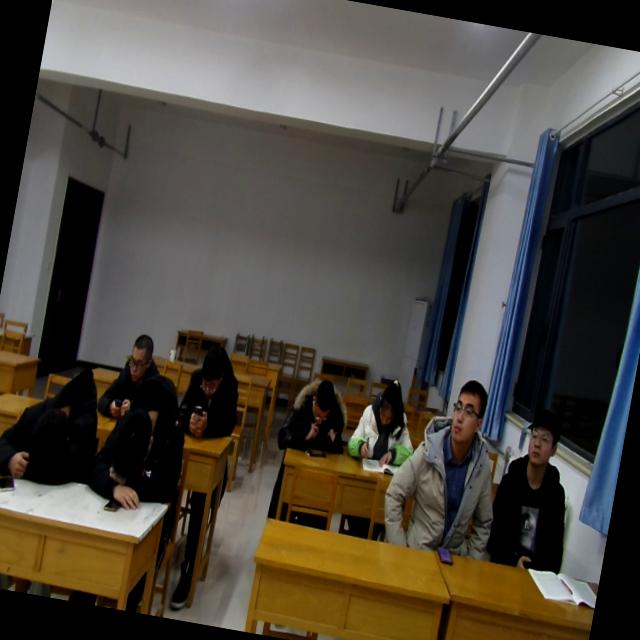bow: (81, 374, 198, 520), (0, 360, 104, 492)
down: (192, 338, 234, 400), (372, 370, 408, 432), (120, 327, 158, 385), (305, 370, 341, 426)
lookup: (444, 368, 494, 447), (518, 400, 565, 472)
sit: (377, 365, 513, 563), (482, 398, 588, 572), (95, 324, 179, 436), (338, 371, 426, 476), (176, 335, 251, 448), (273, 364, 359, 462)
